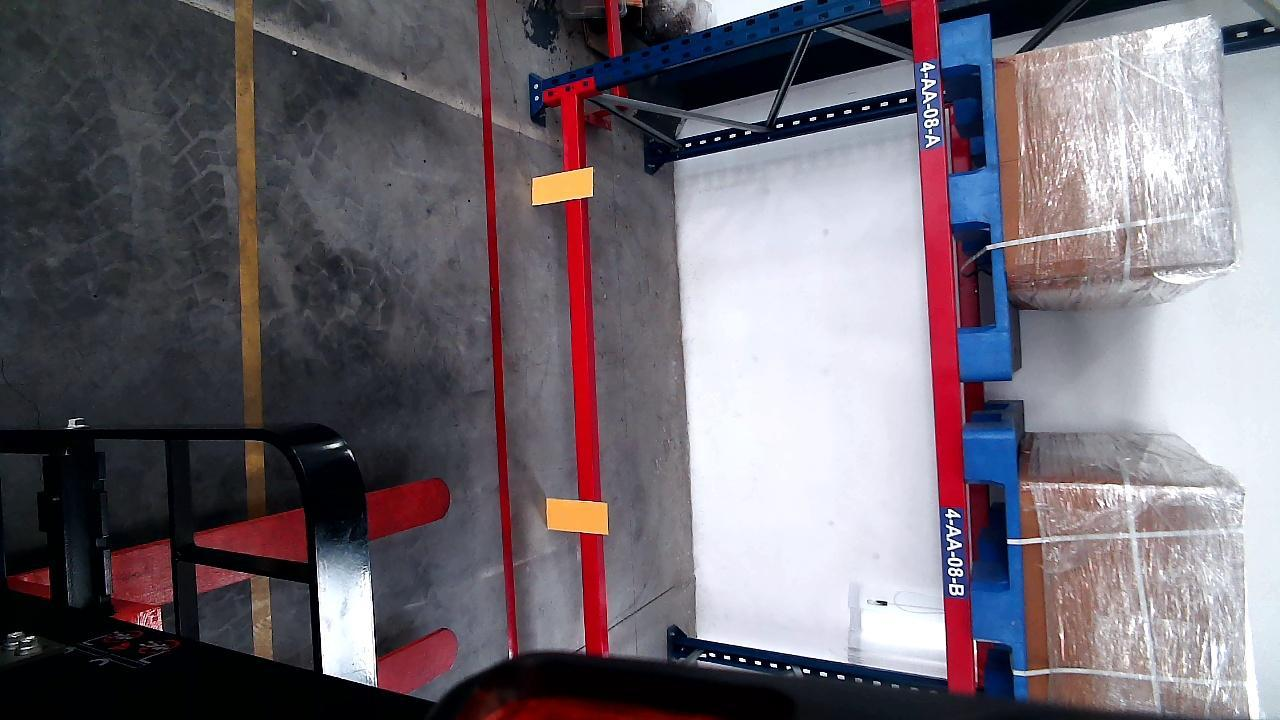red_line: (474, 2, 520, 659)
